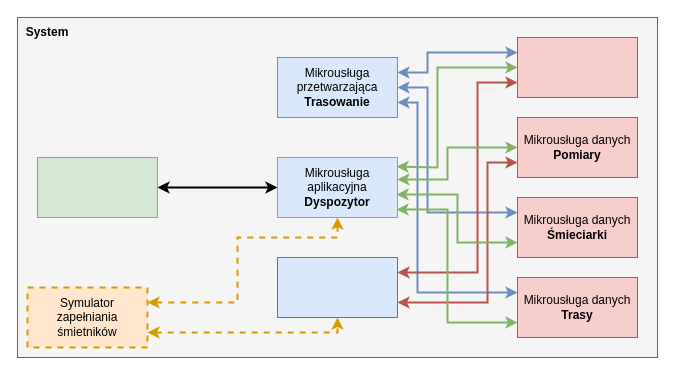
This 675x375 diagram has some shape labels left out. Here are the shapes that lost their labels. From the top down, the centre of each, then its label:
At [577,67]: "Mikrousługa danych Śmietniki".
At [97,187]: "Aplikacja webowa Dyspozytor".
At [337,287]: "Mikrousługa przetwarzająca Czujniki".
